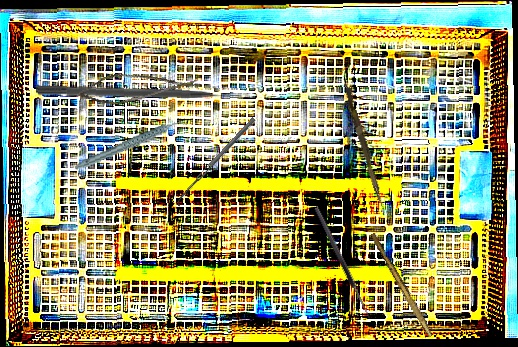Handpiece: (70, 119, 192, 172)
Hook Surgical: (313, 204, 378, 320)
Micro Scissor: (76, 51, 200, 121)
Pusher: (341, 87, 389, 208), (35, 84, 242, 104)
Scalpel Handle: (368, 232, 436, 338)
Spatula Surgical: (173, 117, 260, 208)
